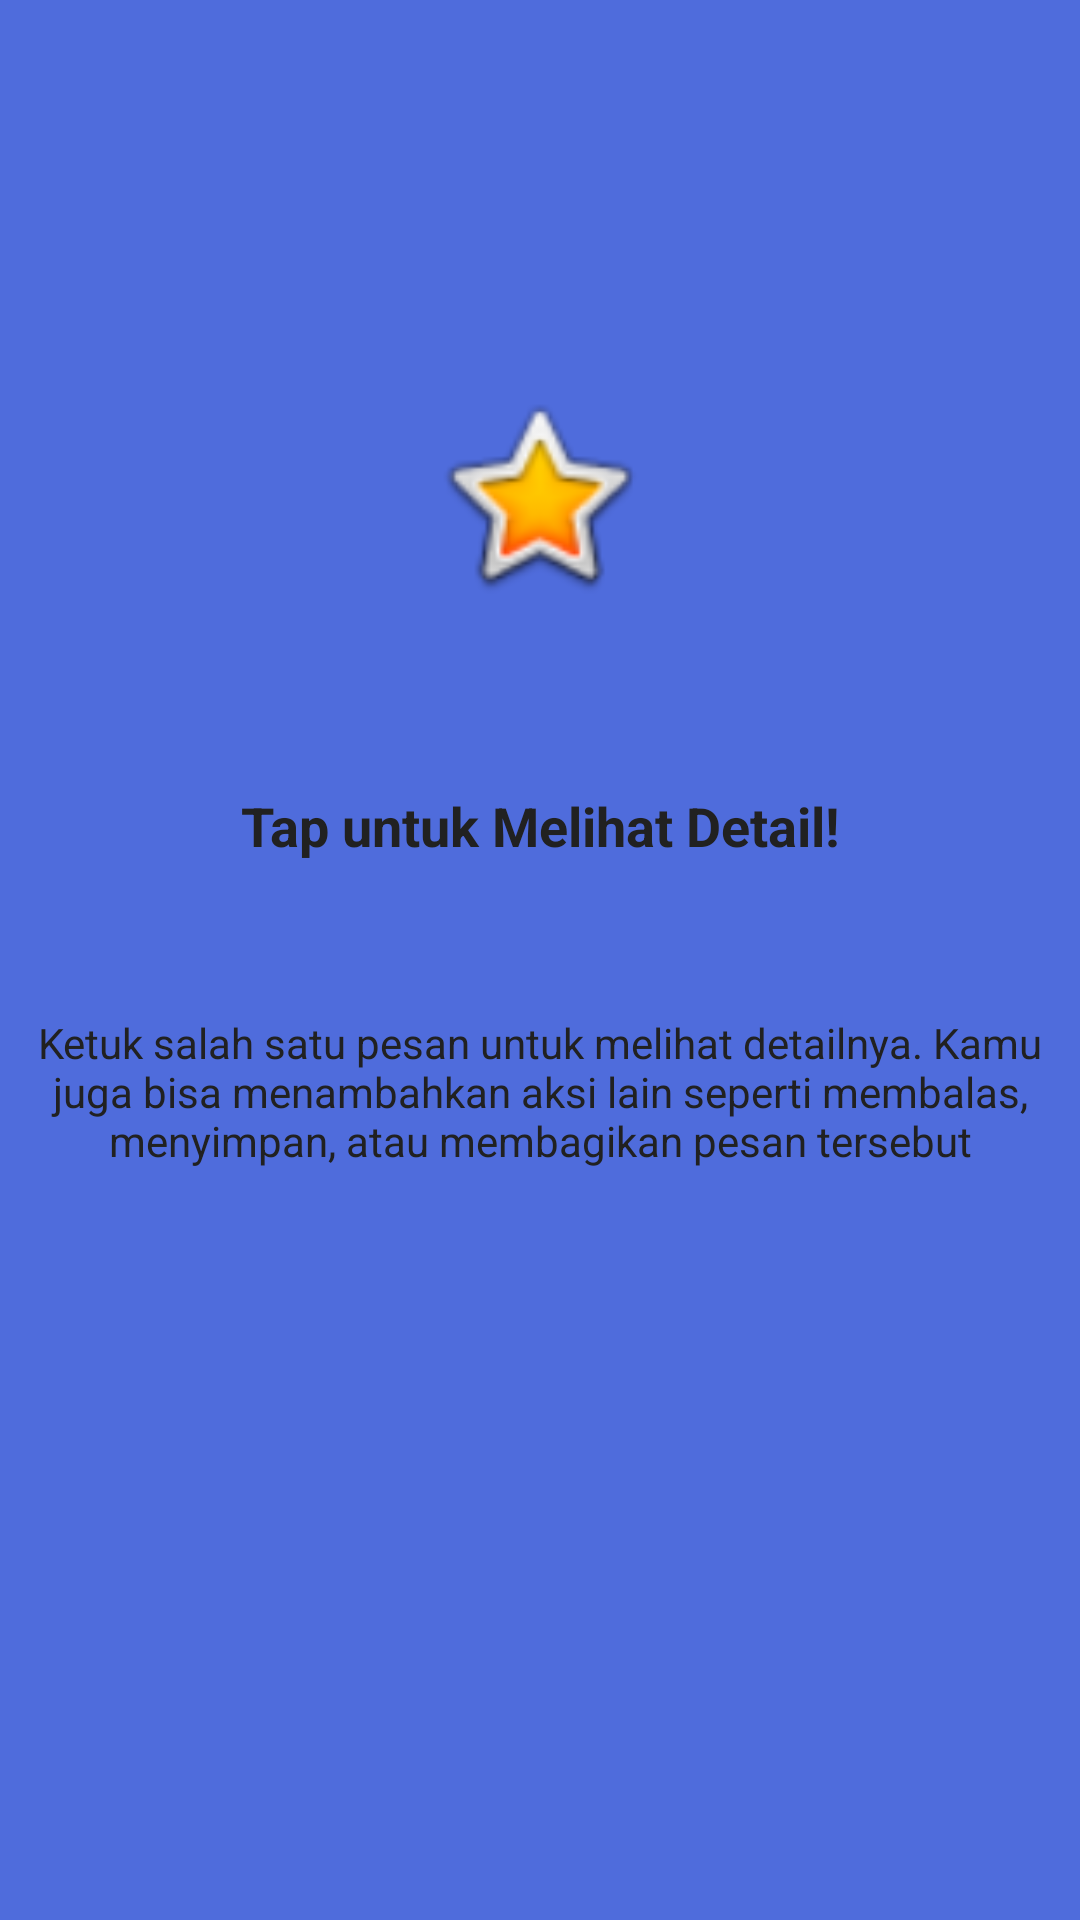

Where icons sit on this 1080 x 1920 app screen, as (x1, y1, x2, y2):
star on: (447, 407, 633, 587)
